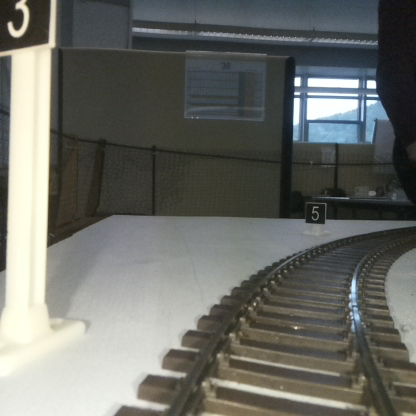black-stop-5: (306, 202, 326, 235)
